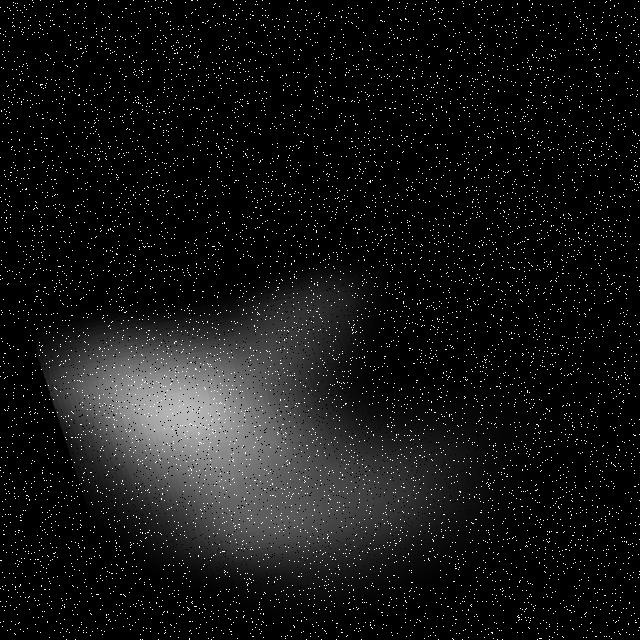person: (15, 175, 608, 640)
